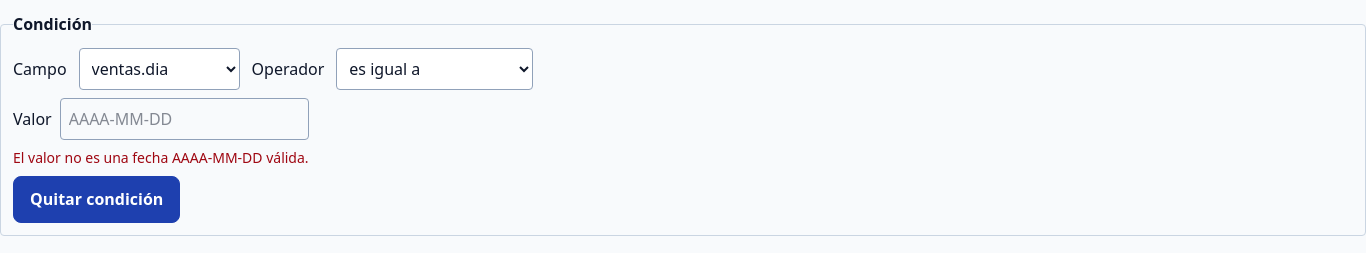
Test: a condition on a field the session may filter › checks dates as the server does
Type "2028-02-29" into the field labelled "Valor" at (184, 119), box [60,98,309,140]
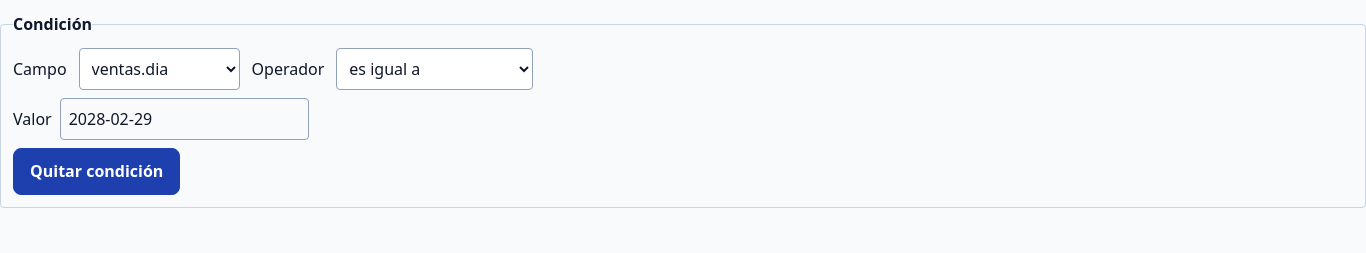
Replace the text in the field labelled "Valor" with "2026-02-30" at (184, 119), box [60,98,309,140]
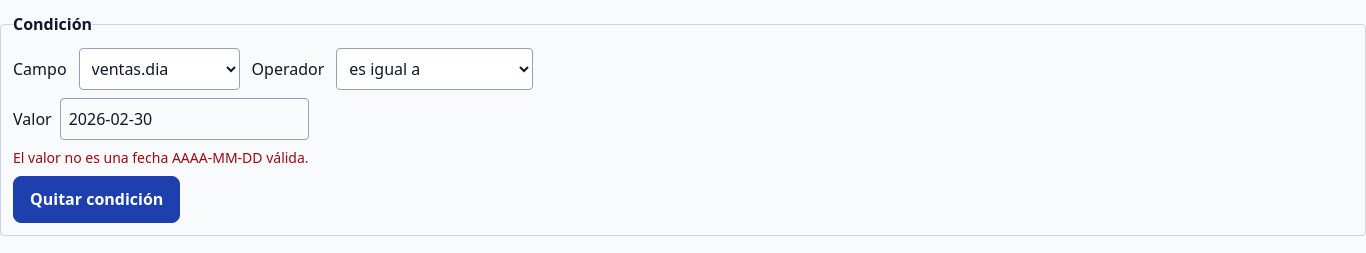
Result: the text "fecha AAAA-MM-DD" is shown at [13,148,309,167]
